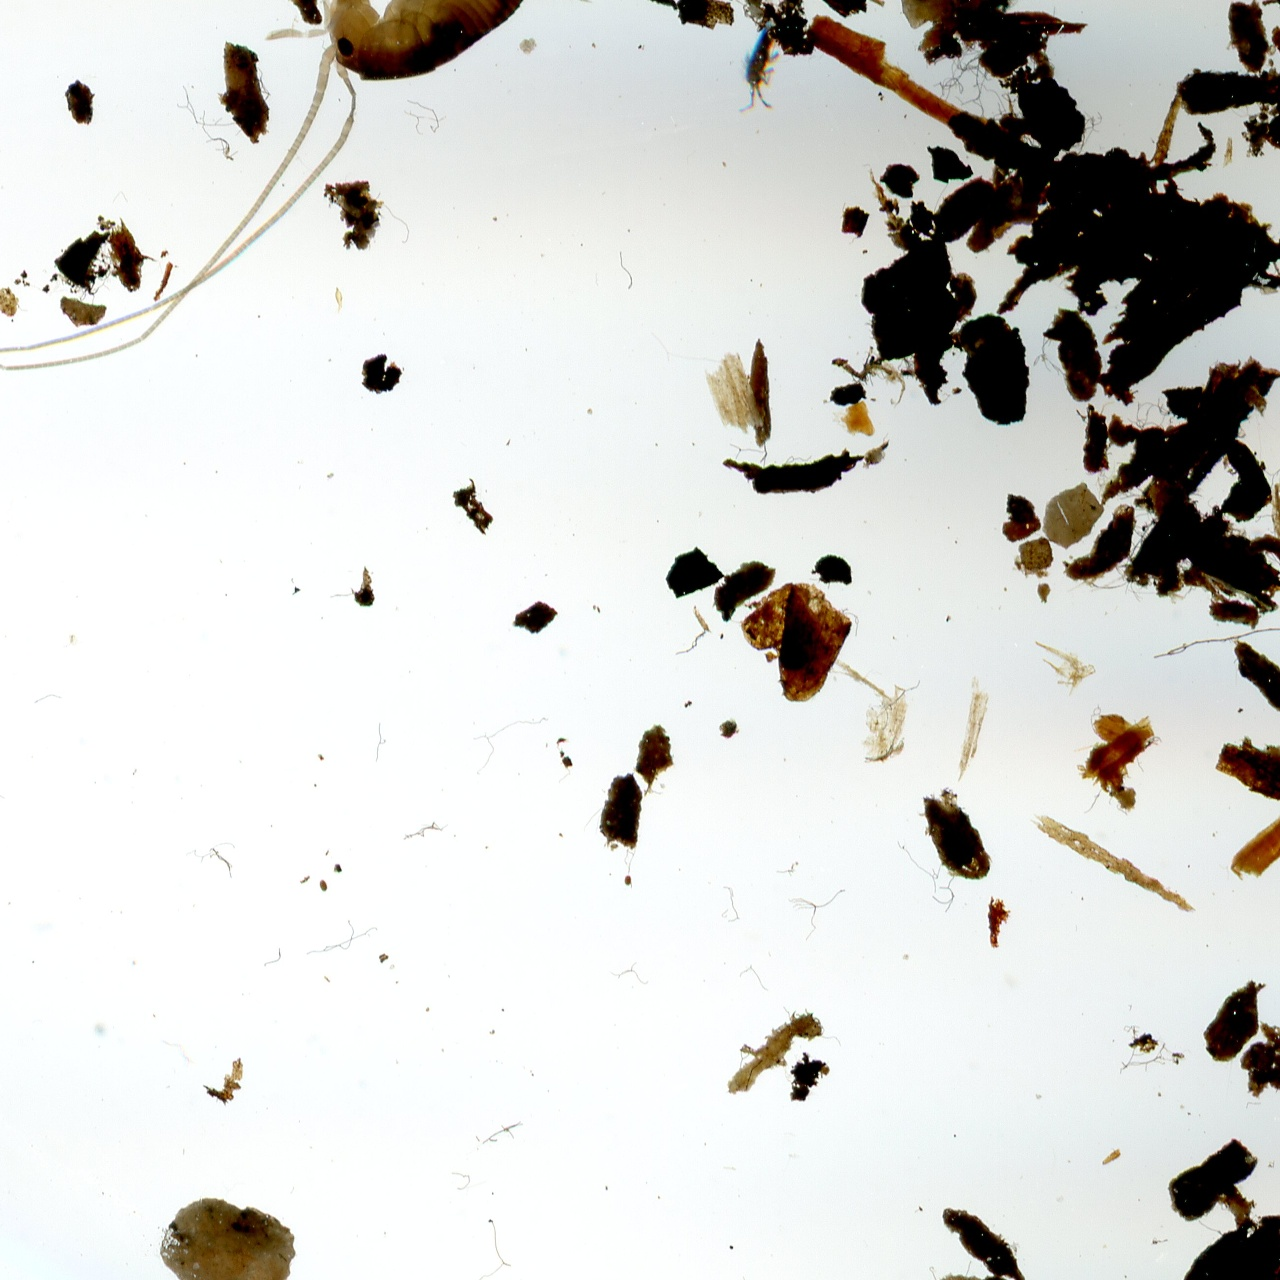arthropod: (0, 0, 1143, 502), (731, 20, 787, 118)
